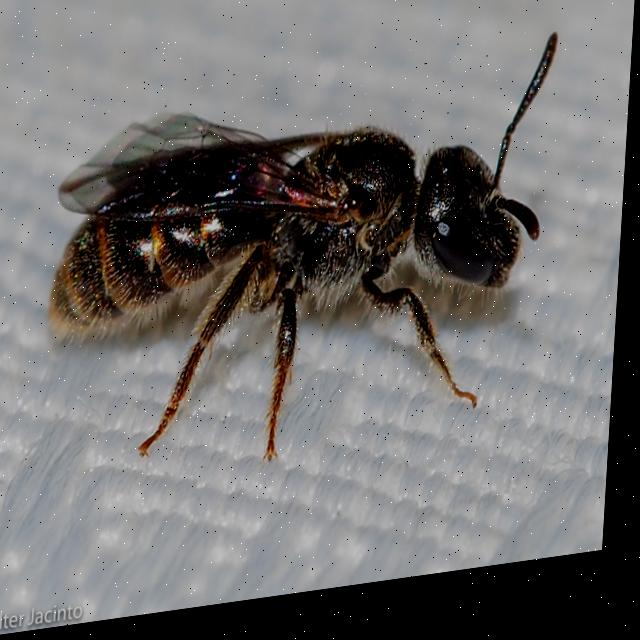Lasioglossum: (29, 36, 593, 496)
